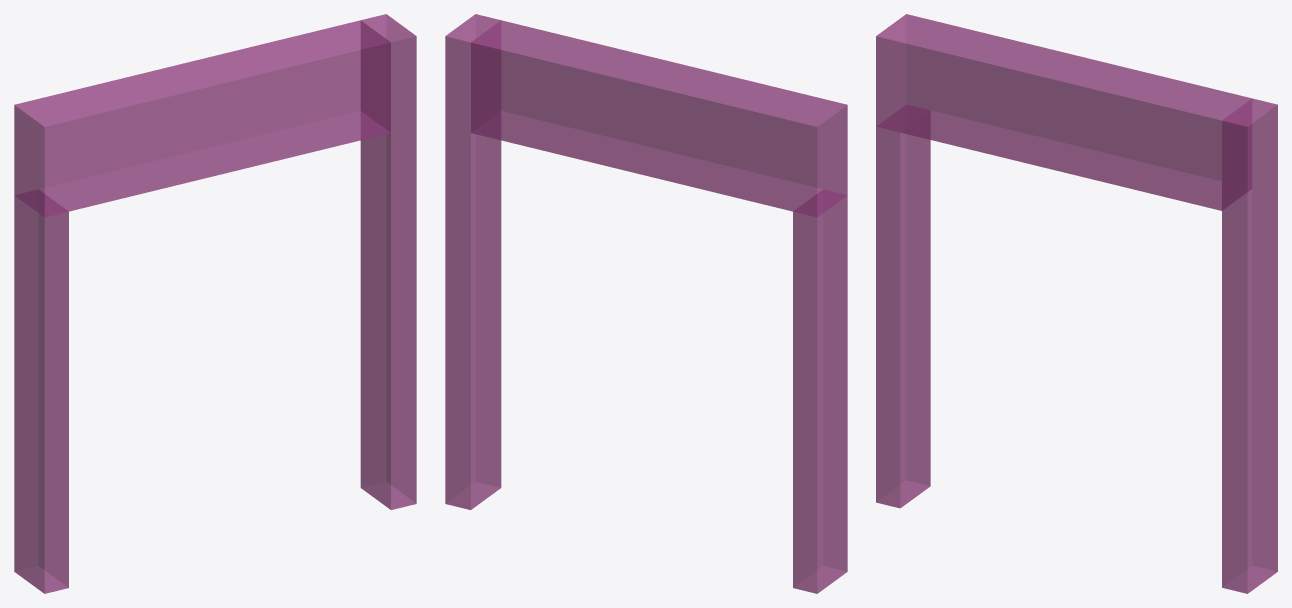
Rendered from SM_Bld_Wall_Door_Double_Large_01_Collision.fbx.
The picture shows the model from 3 angles, left to right: view 1: azimuth 30°, elevation 25°; view 2: azimuth 150°, elevation 25°; view 3: azimuth 330°, elevation 25°; orthographic projection.
Parts seen in each view (by area): view 1: SM_Bld_Wall_Door_Double_Large_01_Collision; view 2: SM_Bld_Wall_Door_Double_Large_01_Collision; view 3: SM_Bld_Wall_Door_Double_Large_01_Collision.
Boxes of the visible parts, left/top/right/bottom form: SM_Bld_Wall_Door_Double_Large_01_Collision: left=14, top=14, right=416, bottom=593; SM_Bld_Wall_Door_Double_Large_01_Collision: left=445, top=14, right=847, bottom=593; SM_Bld_Wall_Door_Double_Large_01_Collision: left=876, top=14, right=1277, bottom=593.
Size of the model in its own units: 254 by 305 by 35.97.
